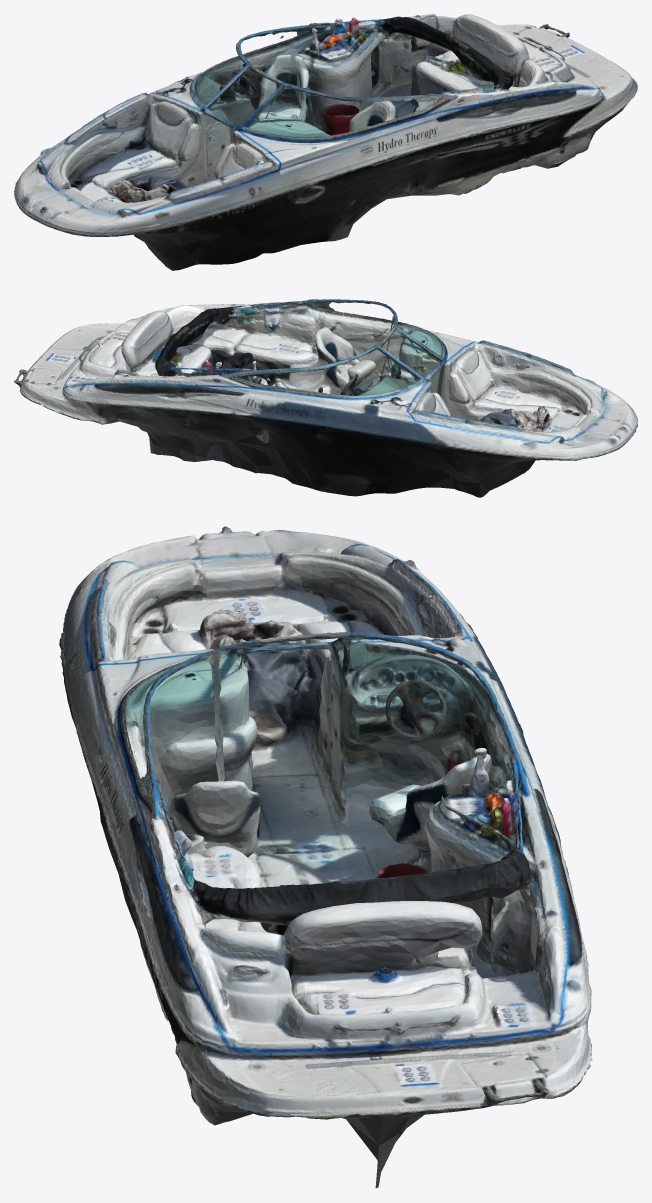
File: bote_25mb.glb
3 renders of one model, top to bottom at view 1: azimuth 30°, elevation 25°; view 2: azimuth 150°, elevation 25°; view 3: azimuth 270°, elevation 25°, orthographic. The views are drawn at different scales.
Visible parts, largest first — view 1: Mesh_0; view 2: Mesh_0; view 3: Mesh_0.
Boxes of the visible parts, x1,y1,x2,y2 form: Mesh_0: (14, 14, 637, 270); Mesh_0: (14, 299, 637, 497); Mesh_0: (59, 526, 592, 1188).
Bounding box in the file's own units: 7.43 × 1.64 × 3.11.
1 material, 1 textured.
